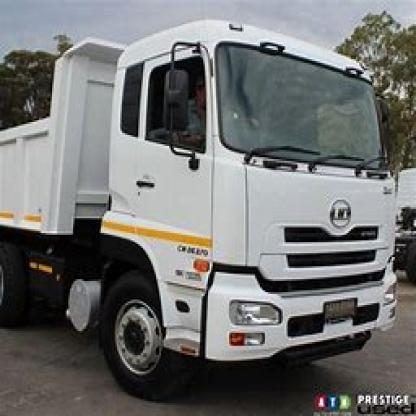dump_truck: (8, 15, 408, 386)
